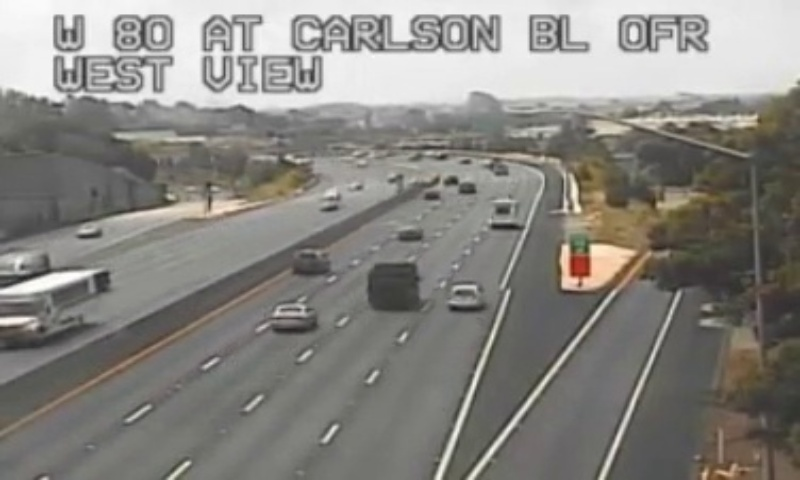bus: (487, 198, 519, 227)
car: (270, 303, 317, 332), (291, 249, 327, 274), (446, 283, 482, 308)
small-truck: (368, 263, 419, 310)
